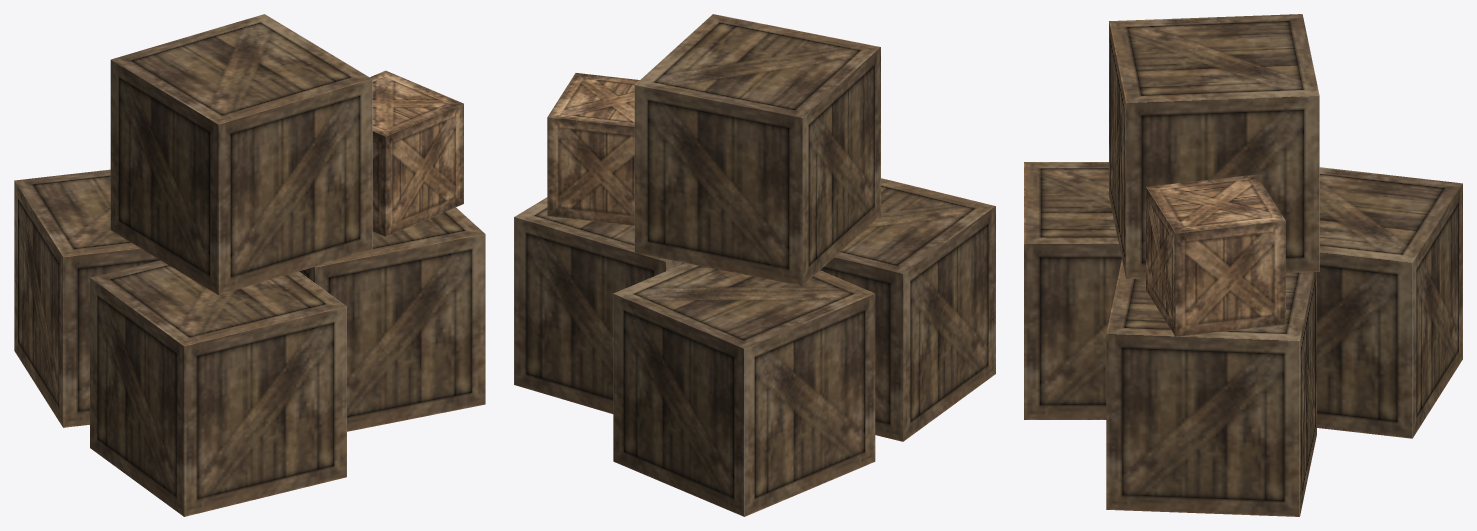
File: Crates_003.dae
3 renders of one model, left to right at view 1: azimuth 30°, elevation 25°; view 2: azimuth 150°, elevation 25°; view 3: azimuth 270°, elevation 25°, orthographic. The views are drawn at different scales.
Visible parts, largest first — view 1: Crates_003; view 2: Crates_003; view 3: Crates_003.
Boxes of the visible parts, x1,y1,x2,y2 form: Crates_003: [14, 14, 485, 516]; Crates_003: [514, 14, 995, 516]; Crates_003: [1024, 14, 1462, 516].
Bounding box in the file's own units: 12.46 × 12.9 × 11.51.
